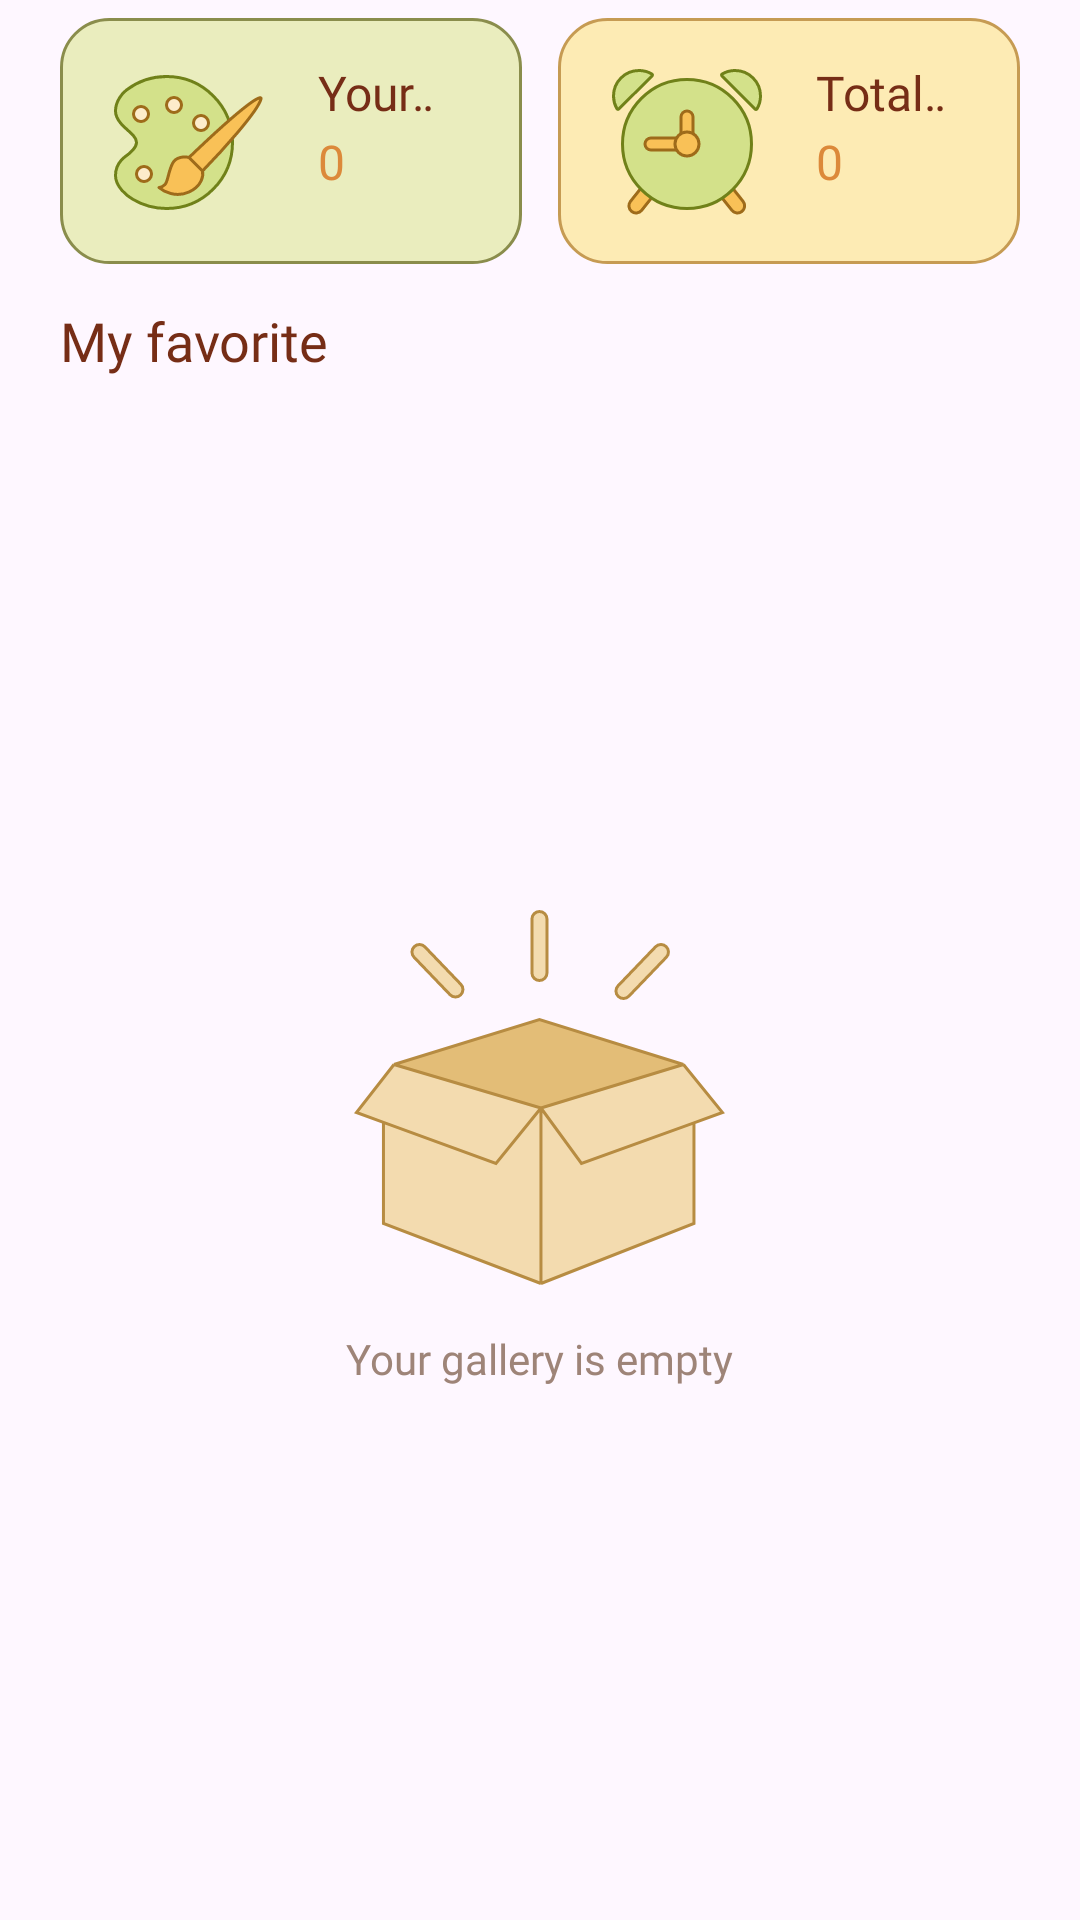

Icons on this 1080 x 1920 Android screen, each with the point to tap as (x=x, y=y):
alarm: (x=687, y=142)
drawing: (x=188, y=142)
